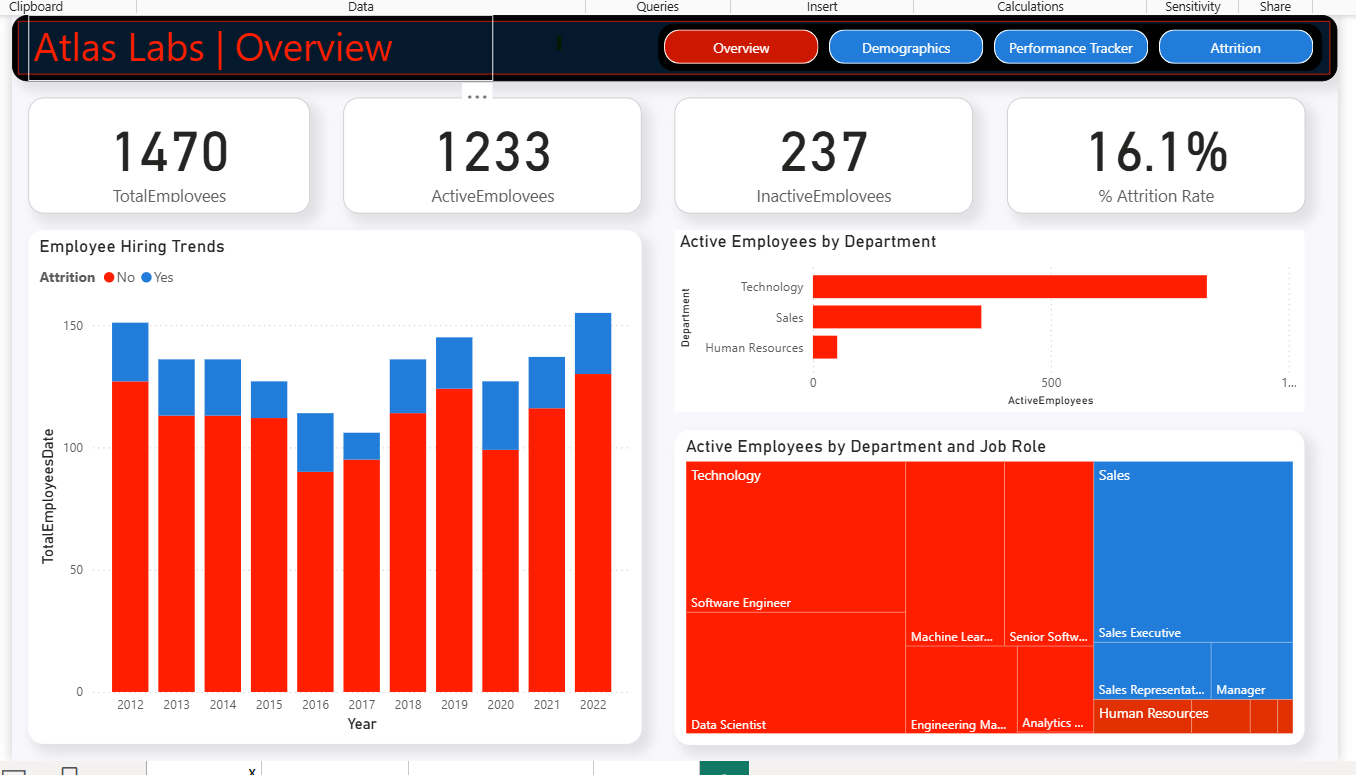

This screenshot's page, from the dashboard's own definition file:
{"tool":"powerbi","page":{"name":"Overview","canvas":[1280,720],"ordinal":0},"visuals":[{"type":"card","fields":{"Values":["_Measures.TotalEmployees"]},"box":[16,80,272,112],"z":0},{"type":"card","fields":{"Values":["_Measures.ActiveEmployees"]},"box":[320,80,288,112],"z":1000},{"type":"card","fields":{"Values":["_Measures.InactiveEmployees"]},"box":[640,80,288,112],"z":2000},{"type":"card","fields":{"Values":["_Measures.% Attrition Rate"]},"box":[960,80,288,112],"z":3000},{"type":"columnChart","title":"Employee Hiring Trends","fields":{"Category":["DimDate.Date.Variation.Date Hierarchy.Year","DimDate.Date.Variation.Date Hierarchy.Quarter","DimDate.Date.Variation.Date Hierarchy.Month","DimDate.Date.Variation.Date Hierarchy.Day"],"Y":["_Measures.TotalEmployeesDate"],"Series":["DimEmployee.Attrition"]},"box":[16,208,592,496],"z":4000},{"type":"clusteredBarChart","title":"Active Employees by Department","fields":{"Category":["DimEmployee.Department"],"Y":["_Measures.ActiveEmployees"]},"box":[640,208,608,176],"z":5000},{"type":"treemap","title":"Active Employees by Department and Job Role","fields":{"Values":["_Measures.ActiveEmployees"],"Group":["DimEmployee.Department"],"Details":["DimEmployee.JobRole"]},"box":[640,400,608,304],"z":6000},{"type":"shape","box":[0,0,1278.8,63.9],"z":7000},{"type":"textbox","box":[16,0,448,64],"z":8000},{"type":"pageNavigator","box":[623.7,8.4,640.6,45.8],"z":9000}]}

Visuals, with their boxes on the page's 1280x720 design canvas (x1, y1, x2, y2). These are canvas units, not pixel positions in the 1356x775 screenshot, which may show the page scaled, cropped or inside an application window:
card - _Measures.TotalEmployees: detection(16, 80, 288, 192)
card - _Measures.ActiveEmployees: detection(320, 80, 608, 192)
card - _Measures.InactiveEmployees: detection(640, 80, 928, 192)
card - _Measures.% Attrition Rate: detection(960, 80, 1248, 192)
"Employee Hiring Trends" columnChart: detection(16, 208, 608, 704)
"Active Employees by Department" clusteredBarChart: detection(640, 208, 1248, 384)
"Active Employees by Department and Job Role" treemap: detection(640, 400, 1248, 704)
shape: detection(0, 0, 1279, 64)
textbox: detection(16, 0, 464, 64)
pageNavigator: detection(624, 8, 1264, 54)
